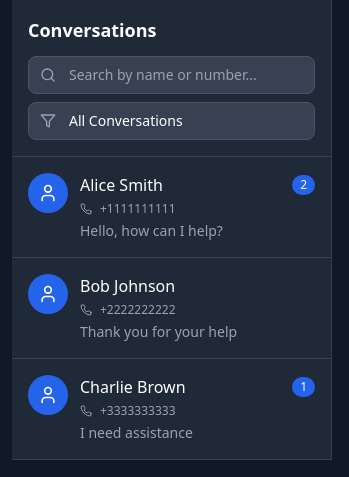
Test: ConversationList › Search Functionality › should filter conversations by name
Step 1. Type "Alice" into the field with placeholder "Search by name or number..." → coordinates (172, 75), box [28, 56, 315, 94]
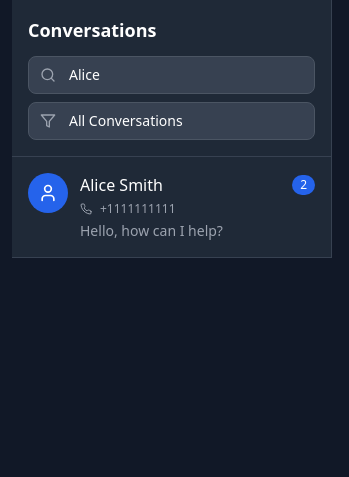
expect the text "Alice Smith" is shown: met, box [80, 173, 163, 197]
expect the button "Bob Johnson" is gone: met
expect the button "Charlie Brown" is gone: met
